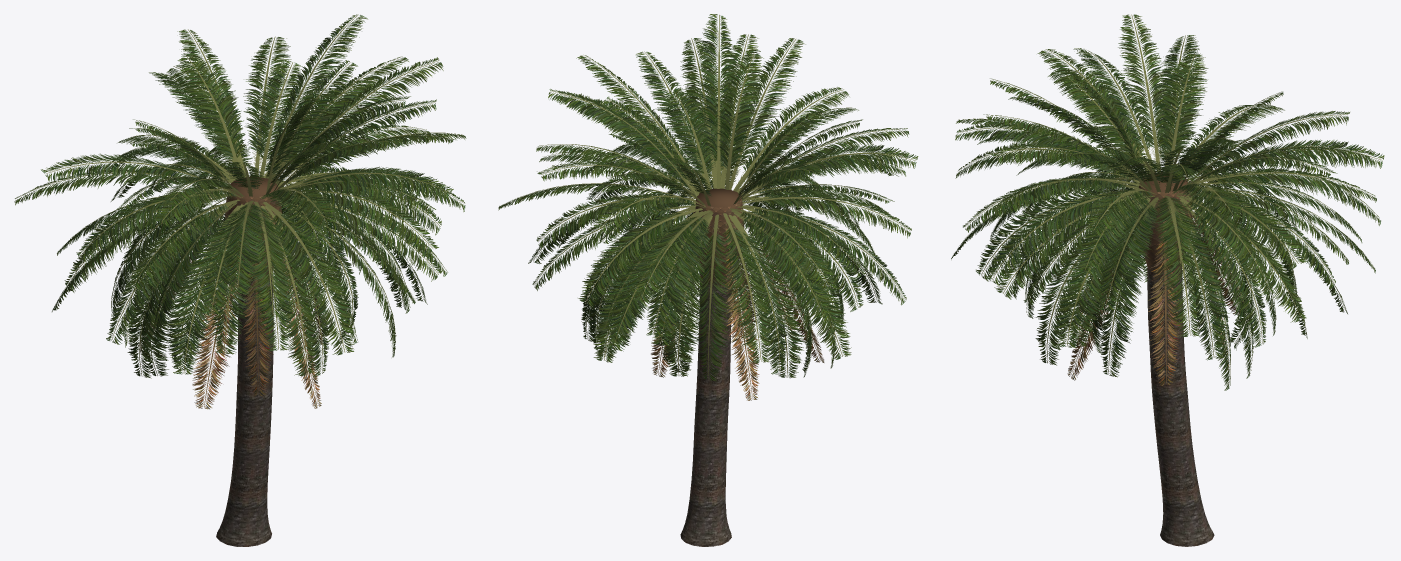
The model's file is SM_Morin_PalmaA.fbx.
The picture shows the model from 3 angles, left to right: view 1: azimuth 30°, elevation 25°; view 2: azimuth 150°, elevation 25°; view 3: azimuth 270°, elevation 25°; orthographic projection. The views are drawn at different scales.
Parts seen in each view (by area): view 1: SM_Morin_PalmaA; view 2: SM_Morin_PalmaA; view 3: SM_Morin_PalmaA.
Boxes of the visible parts, box(x1,y1,x2,y2) form: SM_Morin_PalmaA: box(14, 14, 466, 546); SM_Morin_PalmaA: box(498, 14, 918, 546); SM_Morin_PalmaA: box(951, 14, 1384, 546).
Size of what is drawn, in the model's own units: 1010 by 1002 by 1200.
2 materials, 2 textured.
